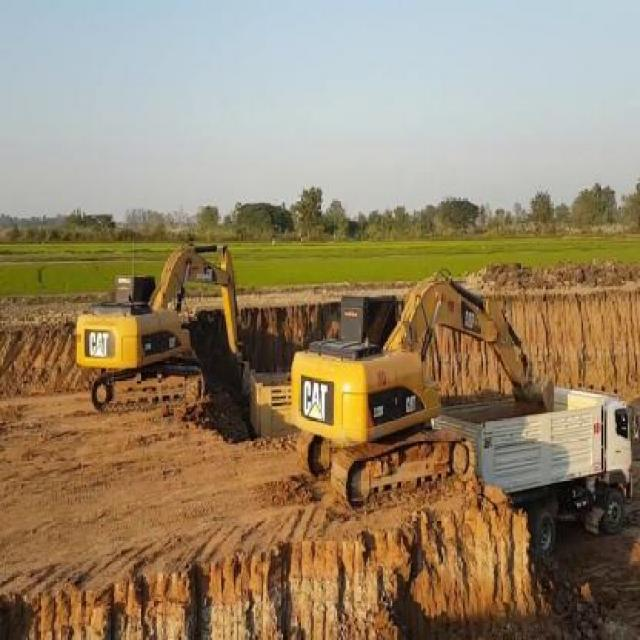Dump Truck: (430, 384, 635, 556)
Excavator: (288, 268, 554, 510), (75, 243, 250, 415)
